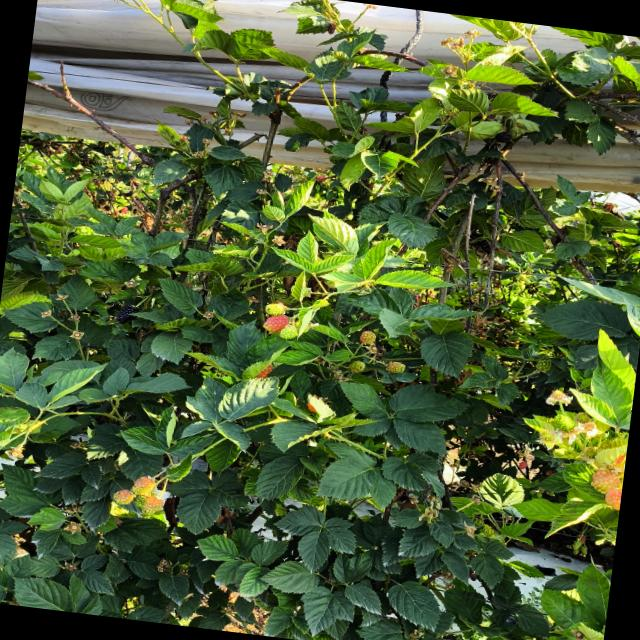maduro: (116, 304, 140, 323)
naranja: (590, 470, 620, 493), (263, 315, 289, 333), (605, 488, 621, 510), (256, 364, 273, 379)
verde: (130, 476, 155, 495), (141, 495, 163, 515), (553, 414, 574, 431), (113, 489, 135, 504), (265, 302, 286, 315), (279, 324, 297, 339), (359, 330, 375, 345), (535, 357, 551, 372), (386, 361, 405, 373), (348, 360, 365, 372)
